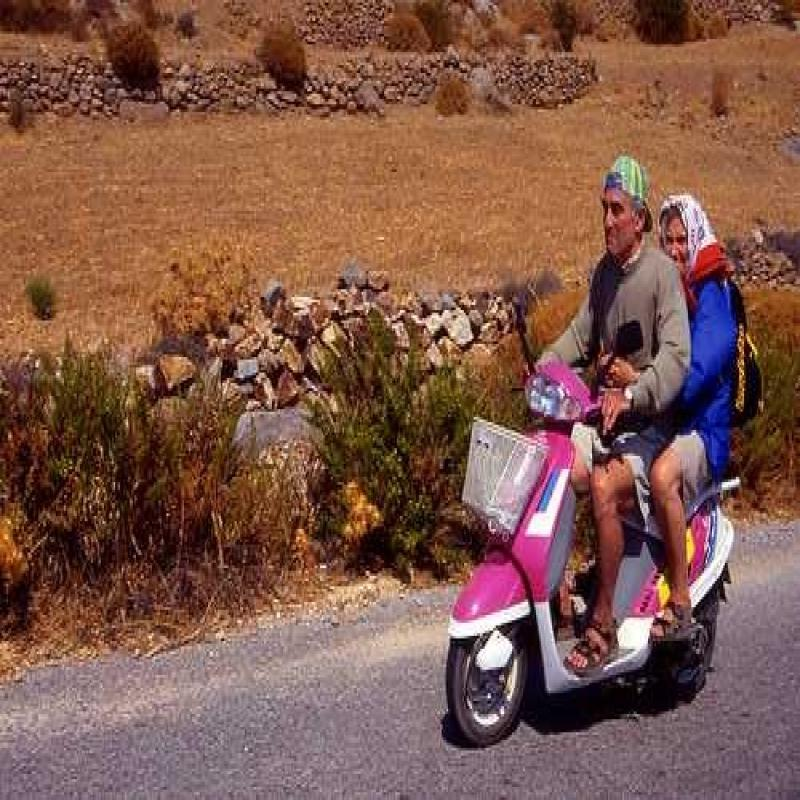bike: (438, 284, 738, 753)
